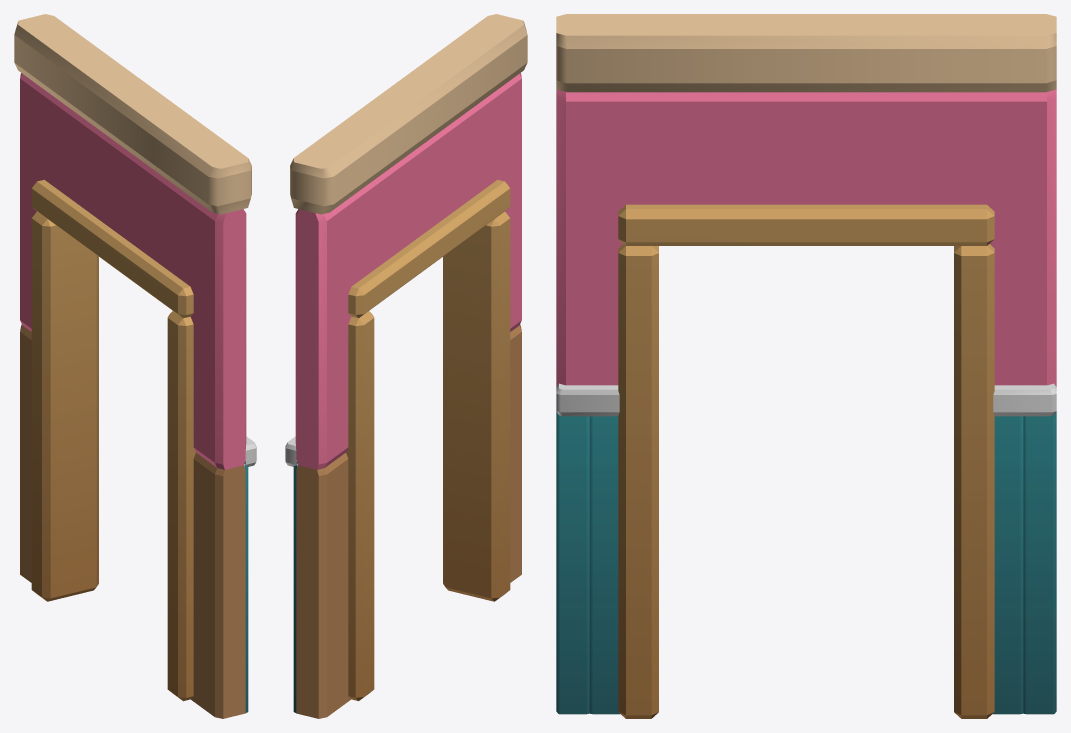
File: Wall_C_15.glb
3 views of the same model, side by side, from view 1: azimuth 30°, elevation 25°; view 2: azimuth 150°, elevation 25°; view 3: azimuth 270°, elevation 25° (orthographic). The views are drawn at different scales.
Parts seen in each view (by area): view 1: Wall_C_15; view 2: Wall_C_15; view 3: Wall_C_15.
Boxes of the visible parts, x1=… form: Wall_C_15: x1=14, y1=14, x2=256, y2=718; Wall_C_15: x1=285, y1=14, x2=527, y2=718; Wall_C_15: x1=556, y1=14, x2=1056, y2=718.
Size of the model in its own units: 0.3235 by 3 by 2.
Materials: 1 (1 with a texture image).
